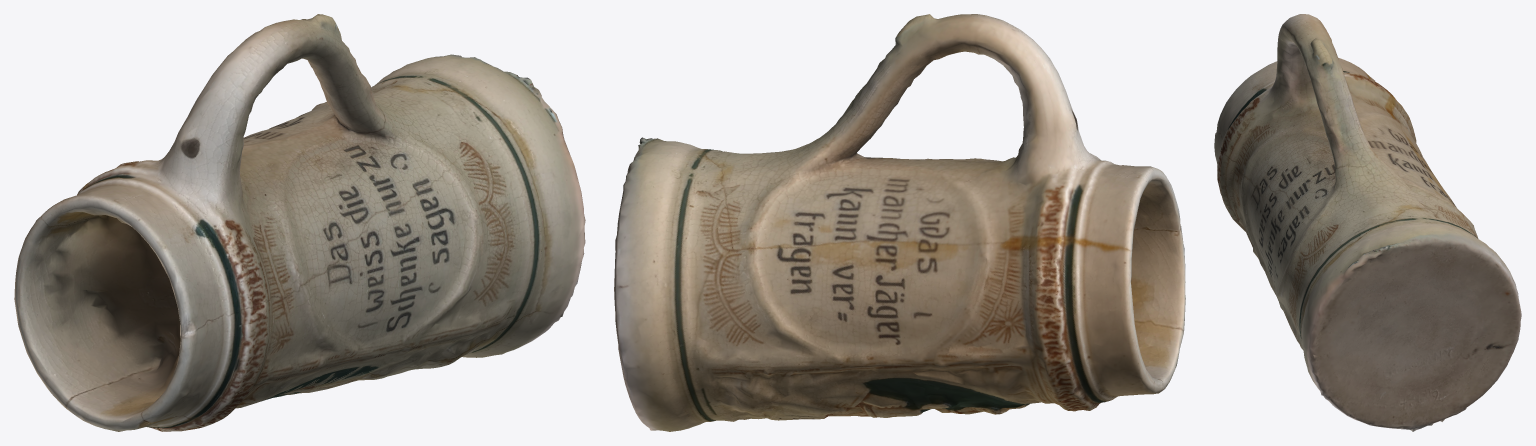
File: 3DModel_LowPoly.gltf
The picture shows the model from 3 angles, left to right: view 1: azimuth 30°, elevation 25°; view 2: azimuth 150°, elevation 25°; view 3: azimuth 270°, elevation 25°; orthographic projection. The views are drawn at different scales.
Visible parts, largest first — view 1: defaultobject; view 2: defaultobject; view 3: defaultobject.
Part boxes in pixels (x1,y1,x2,y2): defaultobject: (14, 14, 585, 431); defaultobject: (614, 14, 1185, 431); defaultobject: (1214, 14, 1521, 431).
Bounding box in the file's own units: 1.96 × 1.55 × 1.34.
1 material, 1 textured.
